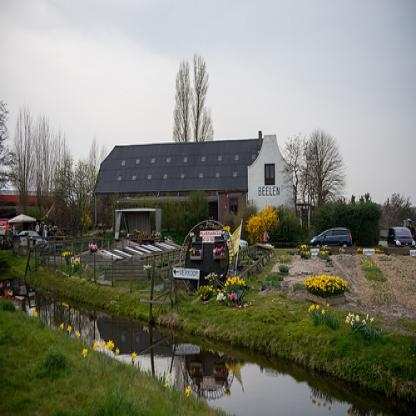TULIP: (26, 334, 210, 414), (300, 264, 381, 339)
